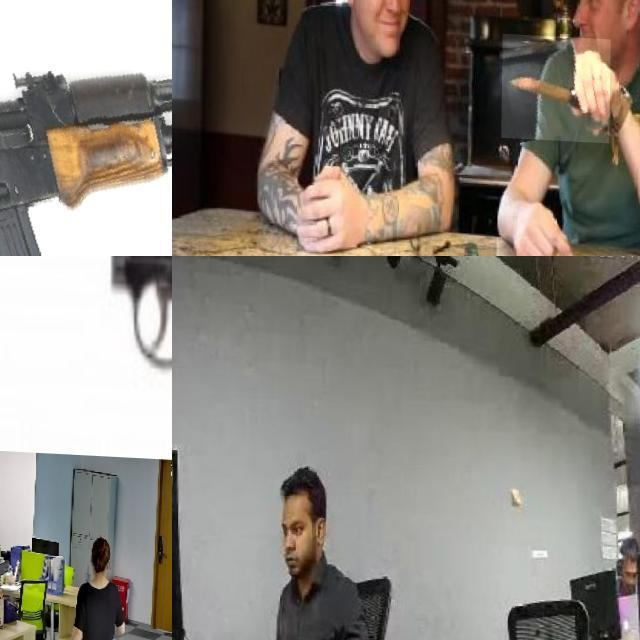-: (503, 30, 612, 138)
gun-knife-thesis - v11 Yolov5 augmented: (0, 8, 172, 256), (0, 256, 172, 450), (0, 436, 151, 640), (0, 265, 41, 348), (0, 552, 18, 616)
